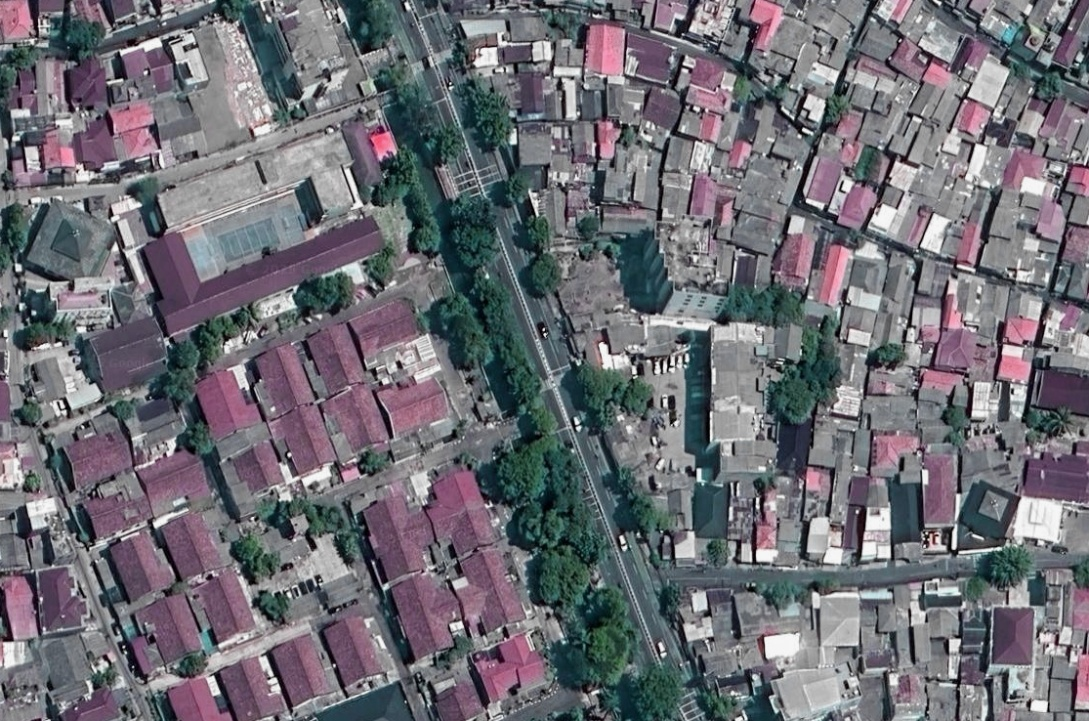building: (153, 212, 389, 336), (153, 123, 355, 235), (243, 0, 381, 127), (633, 205, 741, 335), (973, 168, 1078, 293), (709, 325, 783, 482), (368, 337, 458, 457), (683, 589, 801, 675), (441, 541, 534, 642), (22, 199, 121, 291), (42, 410, 137, 496), (360, 487, 443, 583), (386, 569, 469, 662), (419, 466, 500, 559), (97, 524, 183, 611), (214, 426, 291, 523), (979, 0, 1089, 66), (242, 338, 323, 426), (84, 315, 174, 393), (67, 471, 156, 547), (183, 568, 263, 652), (133, 448, 217, 526), (266, 403, 342, 488), (980, 184, 1048, 279), (470, 631, 552, 708), (322, 384, 393, 471), (772, 657, 867, 721), (118, 391, 196, 468), (349, 296, 429, 371), (189, 365, 263, 446), (133, 592, 205, 671), (789, 592, 861, 670), (26, 561, 99, 637), (216, 649, 292, 721), (146, 90, 212, 171), (320, 612, 387, 691), (165, 508, 236, 582), (989, 603, 1040, 706), (911, 126, 975, 208), (833, 53, 908, 122), (269, 633, 334, 709), (39, 272, 124, 330), (138, 231, 204, 304), (306, 321, 369, 396), (954, 479, 1023, 547), (949, 278, 1015, 349), (671, 53, 743, 118), (1023, 440, 1089, 507), (309, 680, 418, 720), (800, 134, 854, 210), (908, 63, 969, 129), (737, 589, 807, 642), (62, 115, 119, 178), (163, 672, 233, 721), (37, 634, 94, 693), (854, 94, 908, 155), (1042, 303, 1089, 372), (1036, 98, 1087, 161), (814, 593, 869, 651), (622, 34, 682, 87), (166, 34, 212, 103), (1037, 298, 1089, 359), (738, 95, 786, 161), (991, 63, 1039, 129), (727, 206, 785, 259), (341, 122, 387, 188), (813, 239, 855, 311), (964, 56, 1014, 114), (879, 252, 922, 319), (21, 353, 72, 409), (807, 0, 871, 44), (773, 228, 818, 290), (834, 290, 882, 348), (0, 575, 39, 646), (891, 479, 930, 550), (1054, 226, 1089, 303), (1032, 370, 1089, 417), (857, 387, 915, 433), (775, 410, 816, 475), (833, 179, 882, 233), (1004, 147, 1053, 201), (811, 416, 859, 471), (685, 0, 741, 47), (832, 346, 869, 417), (918, 15, 970, 64), (310, 165, 357, 219), (61, 681, 124, 721), (913, 398, 962, 449), (886, 669, 934, 721), (64, 59, 111, 112), (1053, 1, 1089, 70), (866, 182, 907, 242), (965, 142, 1013, 193), (603, 149, 647, 204), (926, 453, 958, 527), (585, 26, 628, 81), (427, 679, 483, 721), (741, 157, 790, 204), (1013, 498, 1064, 543), (919, 208, 961, 261), (695, 641, 749, 682), (853, 22, 902, 67), (144, 37, 180, 97), (707, 589, 744, 647), (104, 96, 157, 136), (896, 198, 935, 252), (839, 492, 869, 562), (694, 484, 730, 542), (676, 587, 713, 643), (785, 37, 824, 90), (770, 14, 814, 60), (889, 38, 935, 82), (708, 669, 756, 711), (875, 435, 928, 473), (923, 584, 963, 634), (939, 177, 983, 222), (602, 312, 647, 356), (70, 0, 126, 35), (981, 0, 1030, 40), (858, 510, 890, 569), (915, 367, 968, 402), (115, 42, 156, 87), (638, 88, 683, 129), (935, 327, 976, 372), (770, 124, 813, 166), (848, 253, 889, 297), (1034, 198, 1075, 242), (114, 126, 159, 166), (729, 481, 759, 541), (12, 112, 74, 140), (600, 204, 656, 235), (1010, 20, 1051, 62), (9, 143, 49, 186), (804, 466, 833, 525), (642, 324, 688, 361), (512, 68, 548, 115), (110, 282, 148, 326), (775, 476, 808, 526), (953, 100, 993, 140), (0, 0, 39, 41), (22, 493, 63, 532), (512, 130, 554, 168), (41, 129, 74, 177), (689, 174, 722, 222), (868, 365, 920, 395), (907, 83, 944, 124), (575, 87, 612, 128), (873, 313, 909, 355), (961, 447, 1013, 476), (1017, 97, 1051, 141), (664, 135, 701, 175), (885, 155, 922, 194), (954, 222, 986, 267), (461, 17, 512, 45), (735, 255, 773, 292), (718, 22, 755, 60), (916, 260, 952, 299), (795, 91, 831, 130), (653, 0, 694, 34), (865, 627, 894, 674), (658, 174, 690, 216), (805, 517, 833, 565), (931, 679, 963, 720), (984, 113, 1019, 150), (872, 0, 915, 30), (772, 322, 804, 362), (907, 126, 938, 167), (860, 673, 887, 720), (1054, 75, 1089, 111), (1003, 316, 1041, 349), (905, 327, 938, 365), (2, 85, 41, 117), (775, 521, 802, 567), (920, 58, 956, 92), (833, 106, 866, 143), (372, 121, 401, 163), (912, 294, 944, 332), (1000, 417, 1032, 455), (1067, 169, 1089, 224), (0, 534, 30, 573), (503, 42, 551, 66), (507, 14, 548, 42), (934, 639, 962, 680), (553, 42, 584, 79), (570, 330, 601, 367), (909, 623, 935, 667), (561, 184, 593, 219), (541, 190, 567, 233), (716, 109, 742, 152), (964, 609, 987, 656), (725, 137, 755, 173), (1048, 679, 1077, 716), (764, 637, 803, 664), (998, 357, 1034, 386), (467, 44, 503, 73), (802, 299, 838, 328), (1068, 585, 1089, 632), (571, 121, 595, 162), (971, 378, 993, 422), (596, 119, 620, 159), (964, 686, 991, 721), (875, 598, 901, 634), (755, 526, 779, 565), (808, 60, 842, 87), (689, 140, 716, 174), (668, 492, 692, 530), (678, 108, 707, 138), (699, 115, 727, 145), (786, 213, 817, 240), (560, 77, 579, 121), (1071, 117, 1089, 162), (677, 566, 765, 575), (1016, 295, 1044, 323), (758, 485, 775, 530), (1050, 656, 1078, 682), (960, 658, 989, 683), (853, 430, 872, 468), (919, 538, 961, 554), (33, 0, 68, 19), (1077, 655, 1089, 709), (105, 1, 137, 21), (35, 63, 54, 96), (544, 88, 563, 120), (849, 477, 869, 507), (836, 385, 862, 407), (17, 67, 37, 94), (550, 151, 574, 172), (607, 0, 632, 19), (711, 149, 729, 175), (841, 357, 858, 384), (1044, 569, 1072, 585), (110, 83, 130, 104), (832, 632, 859, 647), (1016, 710, 1055, 720), (848, 476, 869, 490), (901, 618, 912, 631), (849, 405, 863, 415), (836, 496, 847, 508), (920, 632, 931, 643), (916, 611, 925, 624), (1006, 439, 1020, 447), (758, 547, 776, 553)
tree: (461, 267, 553, 410), (386, 76, 469, 173), (418, 286, 497, 379), (481, 433, 574, 512), (147, 335, 219, 412), (549, 503, 617, 576), (530, 543, 596, 618), (572, 624, 645, 689), (191, 295, 257, 364), (759, 367, 825, 434), (621, 659, 692, 721), (448, 193, 503, 272), (224, 526, 287, 589), (284, 269, 360, 320), (463, 78, 514, 151), (618, 489, 678, 547), (567, 366, 623, 428), (373, 146, 425, 212), (52, 12, 111, 64), (402, 182, 444, 255), (516, 246, 568, 299), (513, 500, 565, 552), (545, 448, 585, 512), (987, 545, 1038, 593), (0, 35, 43, 90), (507, 210, 556, 258), (349, 2, 395, 52), (802, 361, 845, 409), (726, 286, 778, 324), (358, 242, 397, 289), (372, 51, 414, 93), (588, 585, 631, 625), (0, 206, 28, 267), (491, 175, 531, 216), (616, 378, 656, 418), (20, 322, 72, 352), (699, 684, 741, 721), (125, 171, 165, 209), (181, 421, 217, 462), (259, 496, 304, 528), (300, 497, 332, 539), (1042, 410, 1080, 444), (593, 685, 628, 721), (760, 583, 804, 611), (256, 592, 292, 625), (772, 289, 805, 324), (526, 402, 558, 438), (15, 400, 48, 428), (945, 408, 968, 447), (613, 463, 642, 493), (964, 576, 994, 605), (337, 532, 363, 565), (824, 94, 850, 127), (572, 213, 601, 242), (215, 0, 248, 25), (177, 654, 209, 679), (802, 328, 823, 366), (704, 537, 732, 565), (874, 342, 905, 367), (91, 666, 123, 690), (854, 147, 876, 181), (732, 74, 756, 105), (1020, 404, 1046, 432), (822, 317, 838, 361), (808, 576, 840, 598), (581, 242, 622, 258), (359, 452, 390, 472), (112, 398, 136, 420), (663, 586, 680, 617), (327, 509, 349, 531), (460, 450, 481, 471), (25, 469, 45, 491), (755, 472, 777, 492), (1025, 428, 1046, 447), (452, 420, 471, 441), (772, 81, 792, 100), (567, 704, 587, 721), (621, 127, 638, 146), (0, 307, 14, 329), (647, 552, 663, 570), (417, 312, 431, 331)
